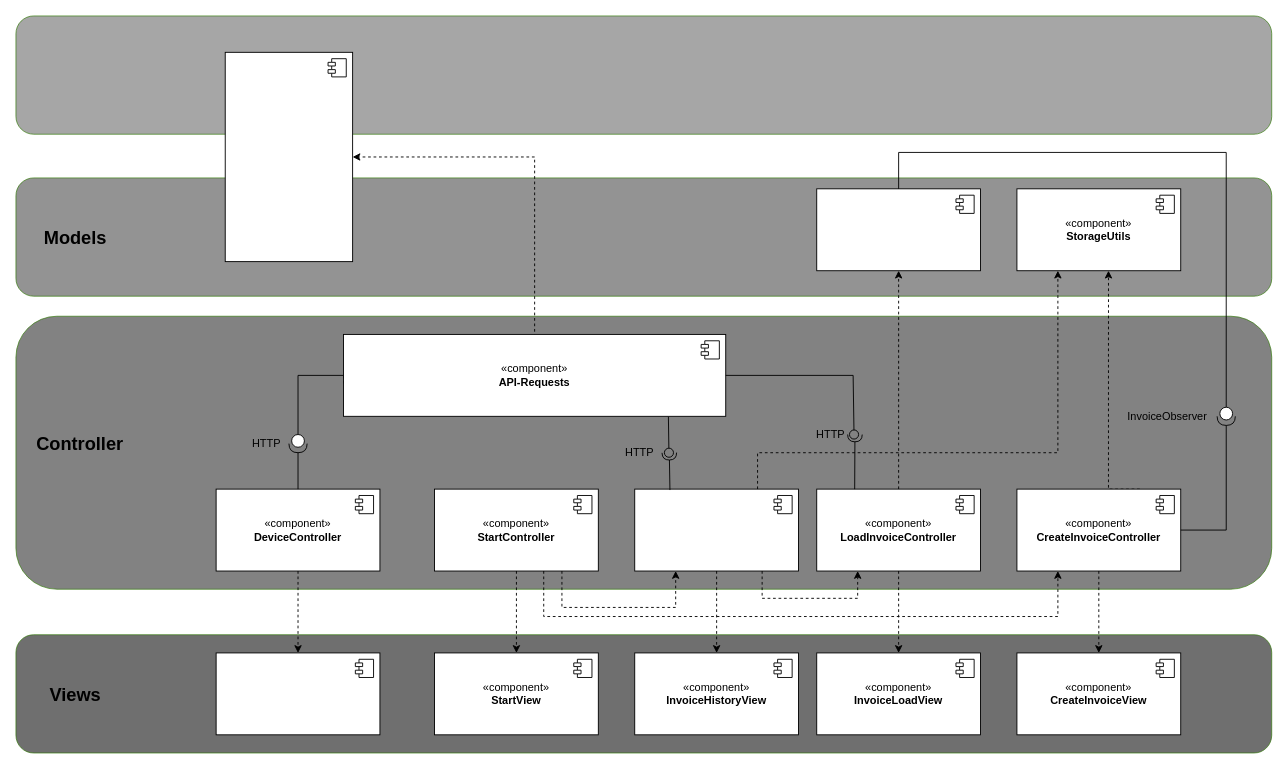
The diagram is 1288 pixels wide and 769 high, and some of its shapes have lost their labels. Each missing label, with the centre of its shape:
"Netzwerk" belongs at pixel 643 74.
"«component» Bluetooth" belongs at pixel 288 156.
"«component» DeviceView" belongs at pixel 297 693.
"«component» HistoryInvoiceController" belongs at pixel 716 529.
"«component» Invoice" belongs at pixel 898 229.
